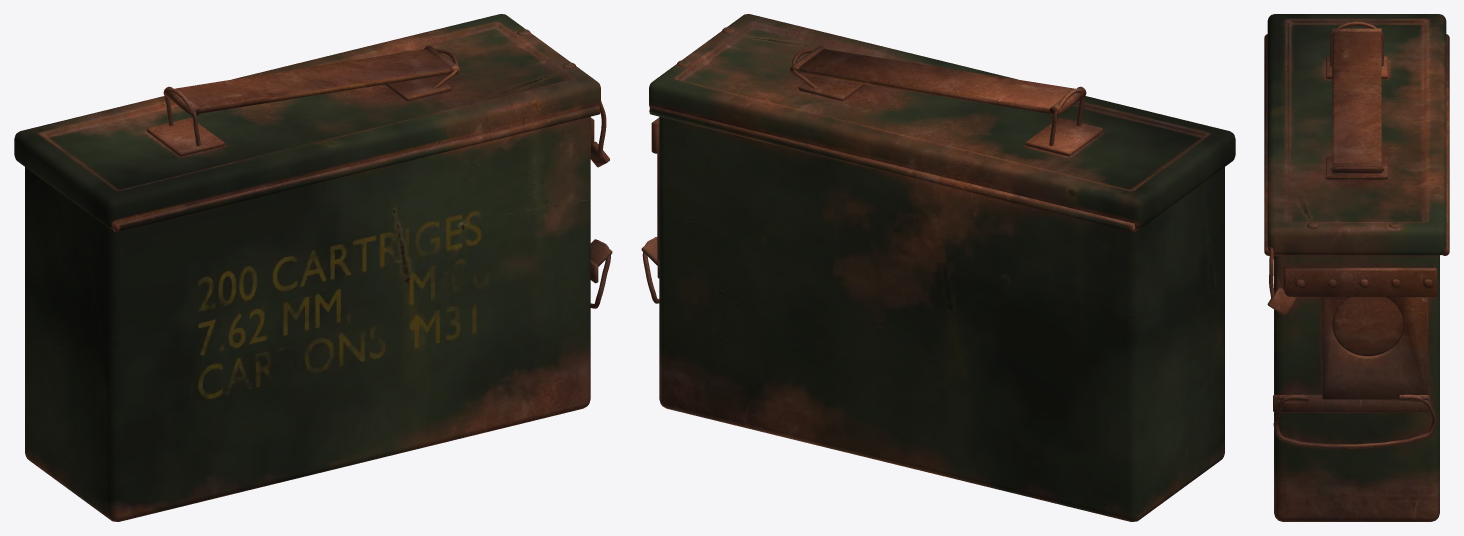
File: ammo-box.glb
3 views of the same model, side by side, from view 1: azimuth 30°, elevation 25°; view 2: azimuth 150°, elevation 25°; view 3: azimuth 270°, elevation 25° (orthographic). The views are drawn at different scales.
Visible parts, largest first — view 1: SM_AmmoBox_Body, SM_AmmoBox_Lid, SM_AmmoBox_Handle, SM_AmmoBox; view 2: SM_AmmoBox_Body, SM_AmmoBox_Lid, SM_AmmoBox_Handle, SM_AmmoBox; view 3: SM_AmmoBox_Lid, SM_AmmoBox_Body, SM_AmmoBox_LatchLever, SM_AmmoBox_Handle, SM_AmmoBox_LatchHinge, SM_AmmoBox_LatchBoss, SM_AmmoBox_LatchBracket, SM_AmmoBox, SM_AmmoBox_BailWire, SM_AmmoBox_LatchWire.
Boxes of the visible parts, x1=… form: SM_AmmoBox_Body: x1=25, y1=116, x2=590, y2=521; SM_AmmoBox_Lid: x1=14, y1=14, x2=600, y2=232; SM_AmmoBox_Handle: x1=163, y1=45, x2=459, y2=116; SM_AmmoBox: x1=146, y1=48, x2=457, y2=156; SM_AmmoBox_Body: x1=659, y1=116, x2=1224, y2=521; SM_AmmoBox_Lid: x1=649, y1=14, x2=1235, y2=232; SM_AmmoBox_Handle: x1=790, y1=45, x2=1086, y2=116; SM_AmmoBox: x1=792, y1=48, x2=1103, y2=156; SM_AmmoBox_Lid: x1=1264, y1=14, x2=1449, y2=255; SM_AmmoBox_Body: x1=1274, y1=255, x2=1439, y2=521; SM_AmmoBox_LatchLever: x1=1322, y1=297, x2=1428, y2=399; SM_AmmoBox_Handle: x1=1332, y1=28, x2=1381, y2=173; SM_AmmoBox_LatchHinge: x1=1267, y1=267, x2=1437, y2=315; SM_AmmoBox_LatchBoss: x1=1332, y1=297, x2=1403, y2=355; SM_AmmoBox_LatchBracket: x1=1273, y1=394, x2=1429, y2=412; SM_AmmoBox: x1=1326, y1=21, x2=1387, y2=179; SM_AmmoBox_BailWire: x1=1273, y1=394, x2=1436, y2=448; SM_AmmoBox_LatchWire: x1=1269, y1=247, x2=1274, y2=297.
Bounding box in the file's own units: 0.2924 × 0.2054 × 0.1016.
Materials: 2 (2 with a texture image).
